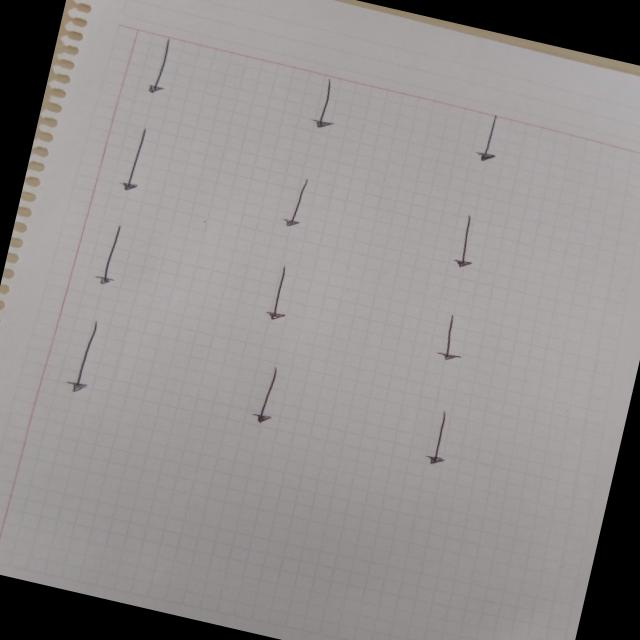arrow_line_down: (416, 408, 472, 480), (256, 260, 312, 328), (88, 220, 138, 294), (61, 317, 106, 399), (444, 208, 494, 279), (426, 310, 481, 374), (302, 71, 353, 140), (138, 34, 182, 103), (245, 363, 288, 432), (116, 124, 158, 194), (470, 114, 513, 176), (278, 172, 314, 232)
